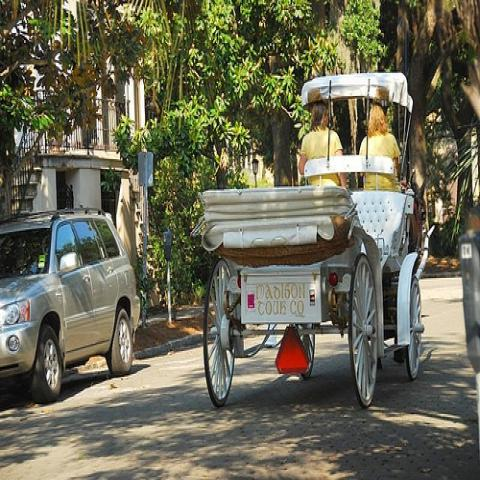car: (5, 213, 141, 400)
truck: (0, 206, 139, 400)
